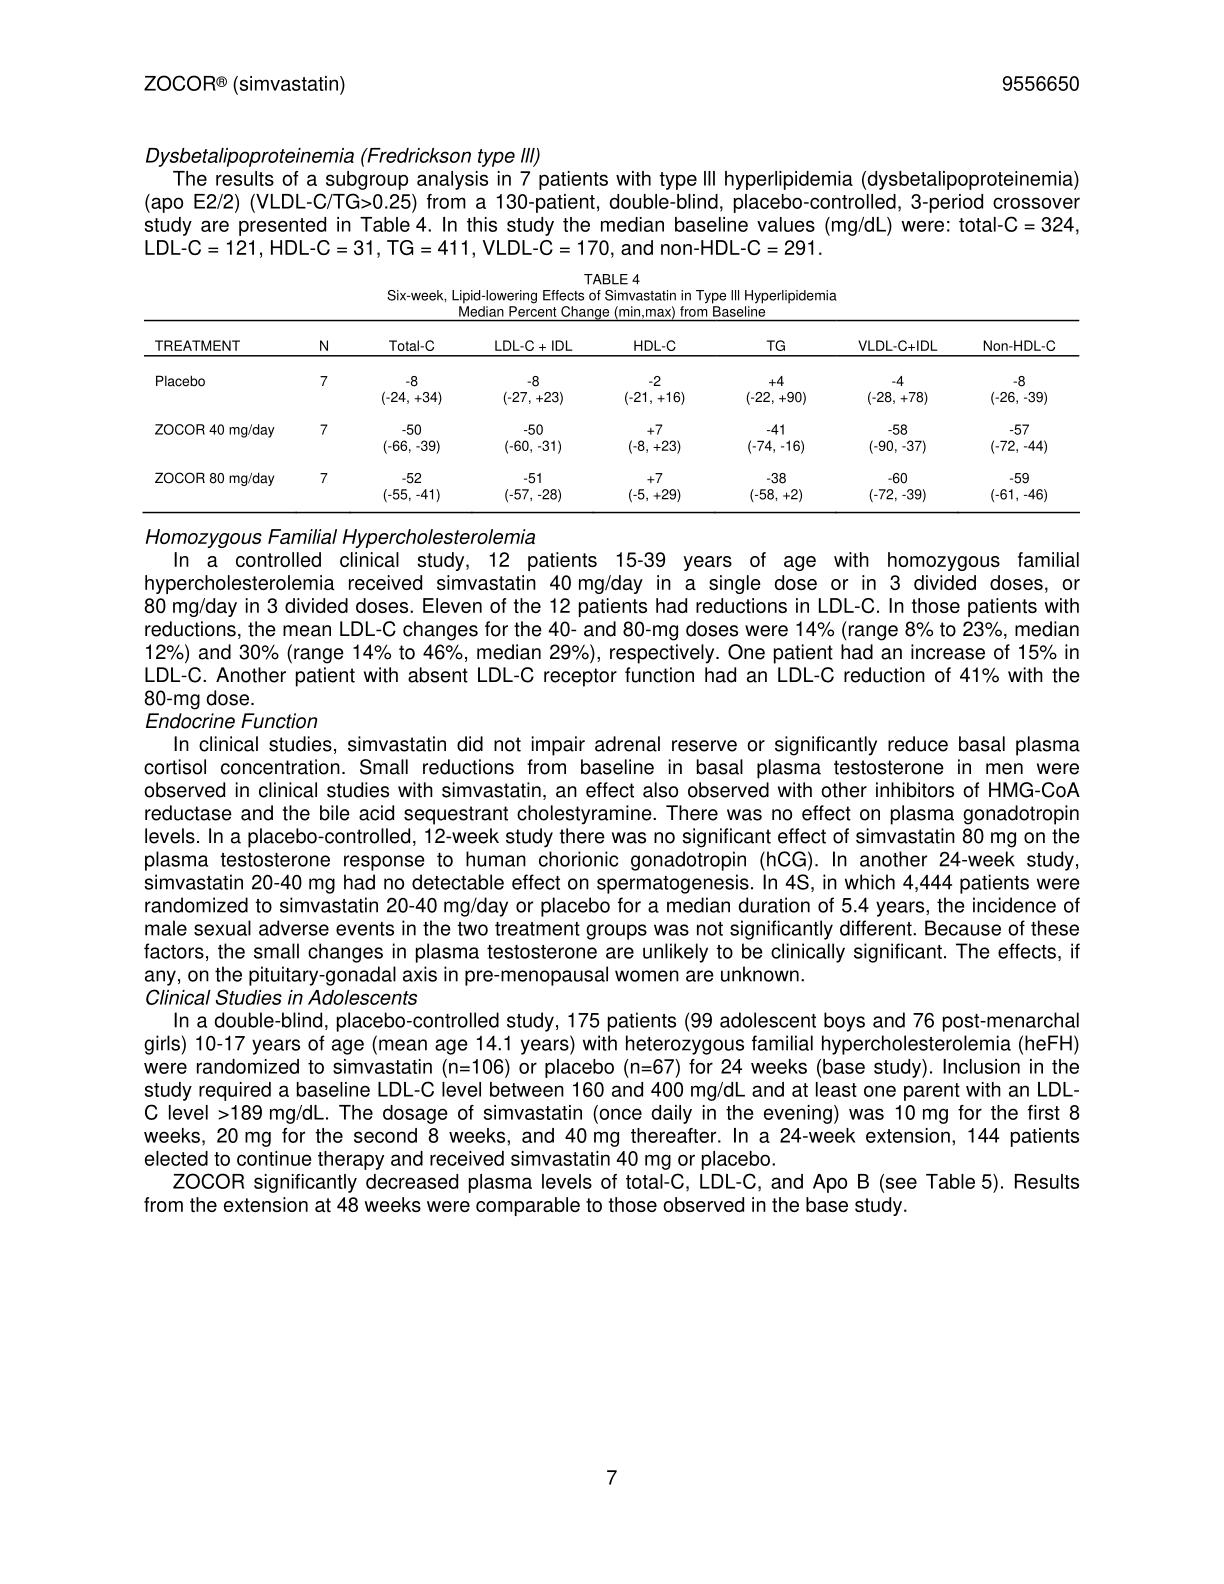partial_lined: (141, 318, 1077, 516)
